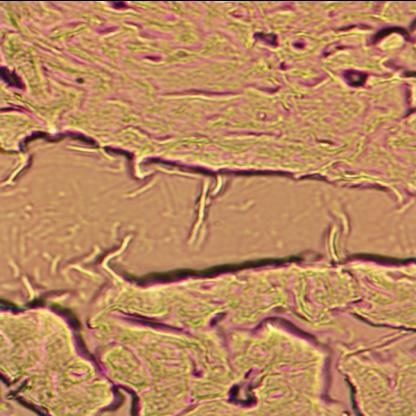Stage I: (0, 0, 416, 189), (0, 253, 416, 416)
